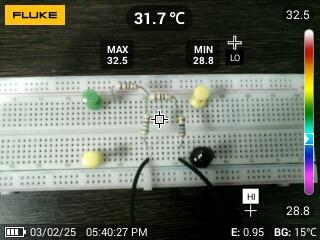resistor: (113, 80, 140, 93), (139, 111, 151, 139), (176, 113, 187, 139), (147, 93, 174, 101)
